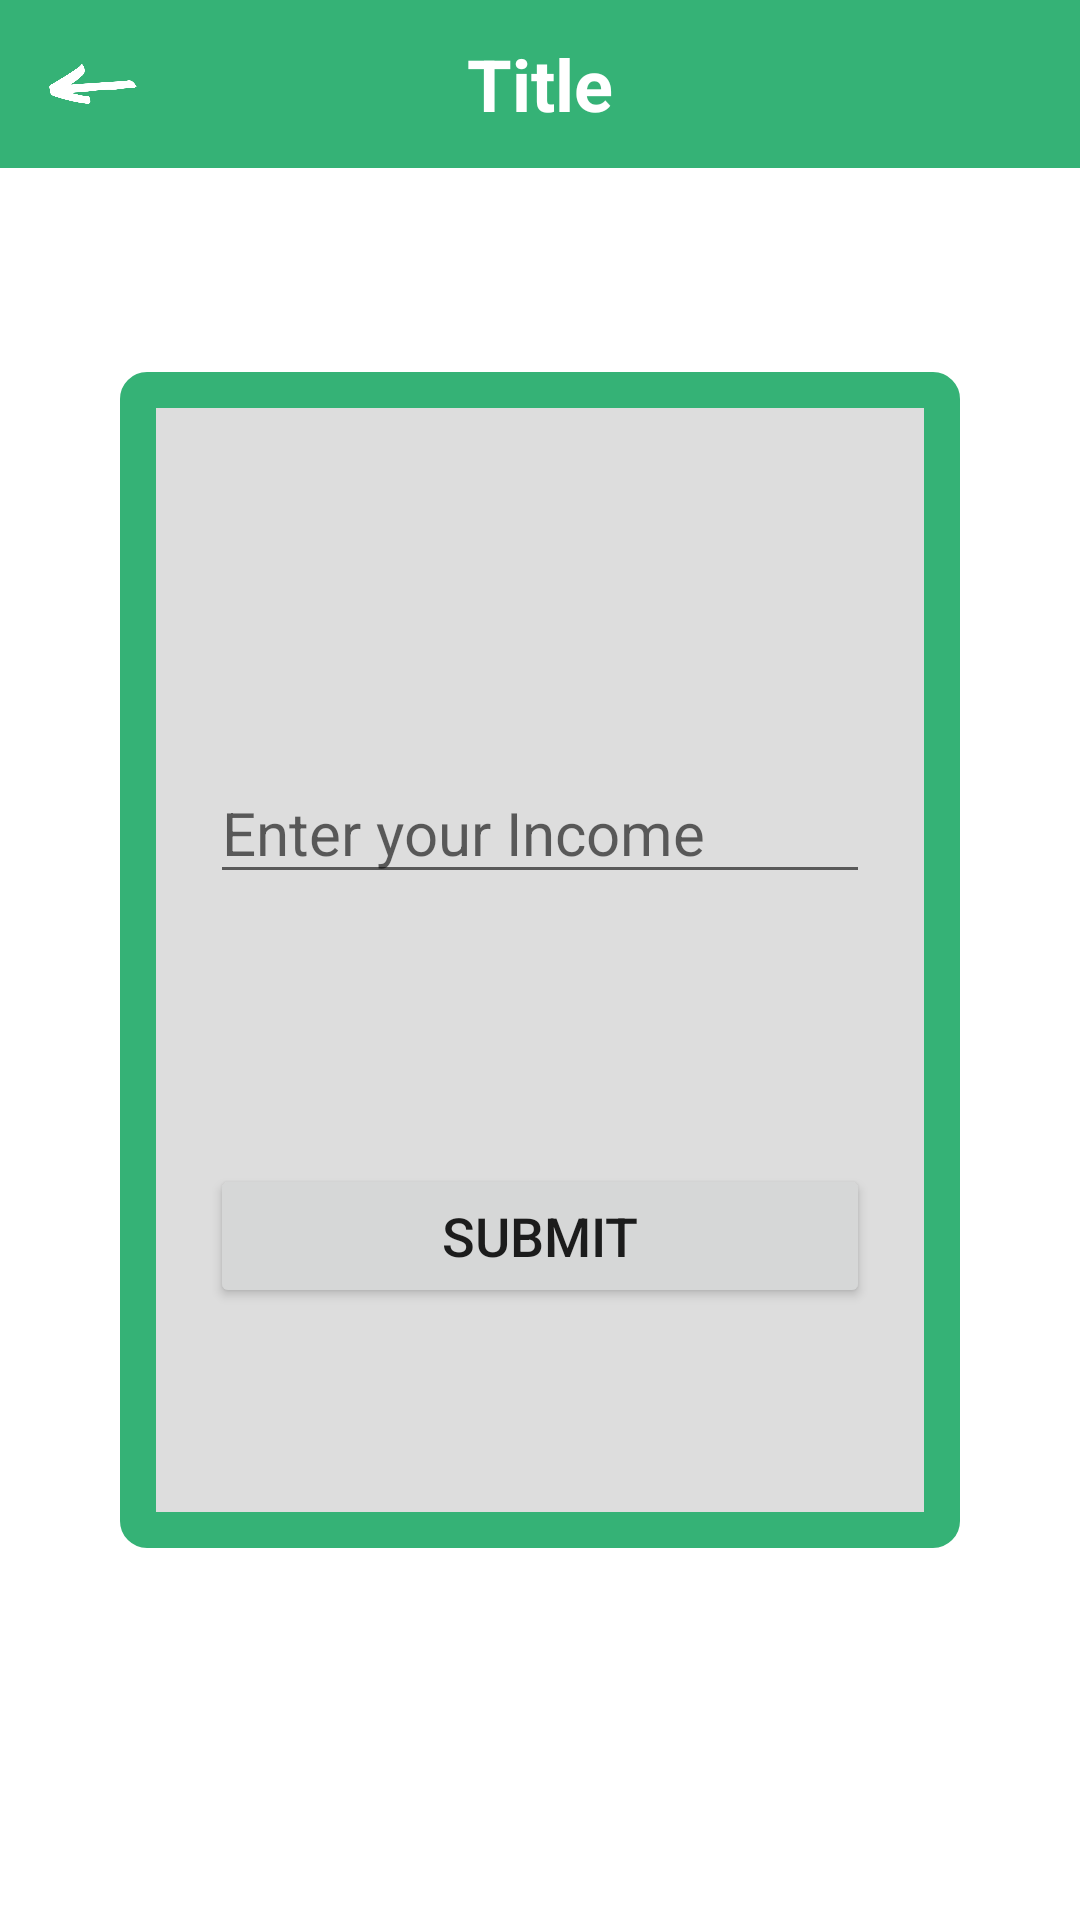

Named icons in this screenshot (1080x1920) and their bounding boxes, BBox(x1, y1, x2, y2):
back: BBox(49, 64, 137, 104)
